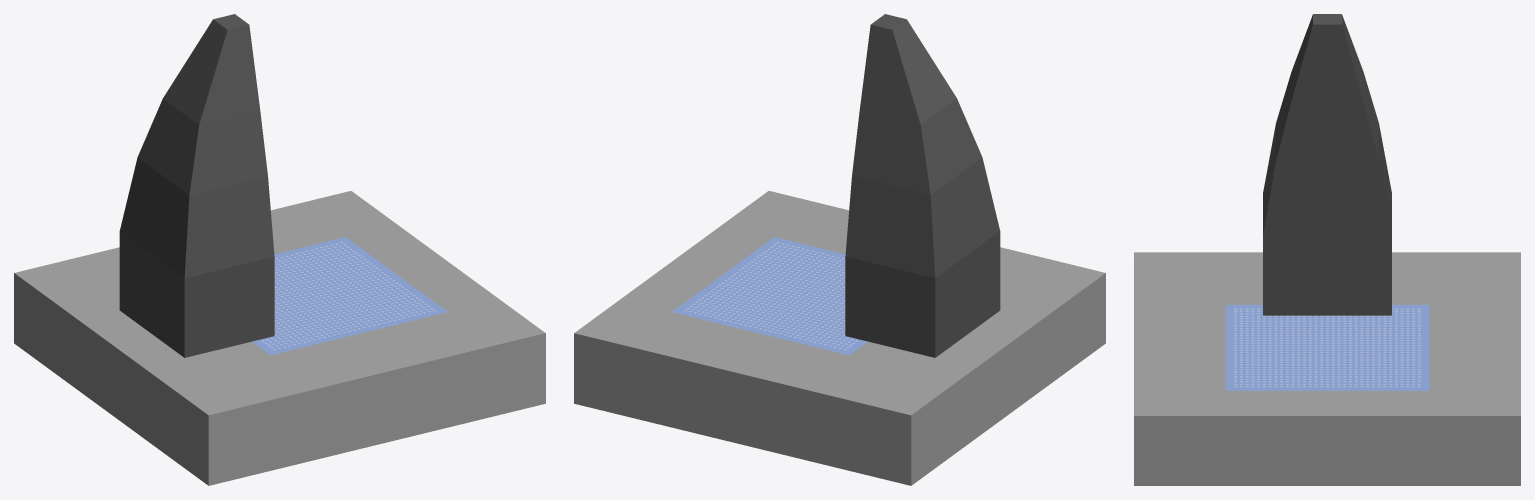
The model's file is launchpad.fbx.
3 views of the same model, side by side, from view 1: azimuth 30°, elevation 25°; view 2: azimuth 150°, elevation 25°; view 3: azimuth 270°, elevation 25° (orthographic).
Visible parts, largest first — view 1: Cube; view 2: Cube; view 3: Cube.
Boxes of the visible parts, left/top/right/bottom form: Cube: left=14, top=14, right=545, bottom=485; Cube: left=574, top=14, right=1105, bottom=485; Cube: left=1134, top=14, right=1520, bottom=485.
Size of the model in its own units: 300 by 309 by 300.
